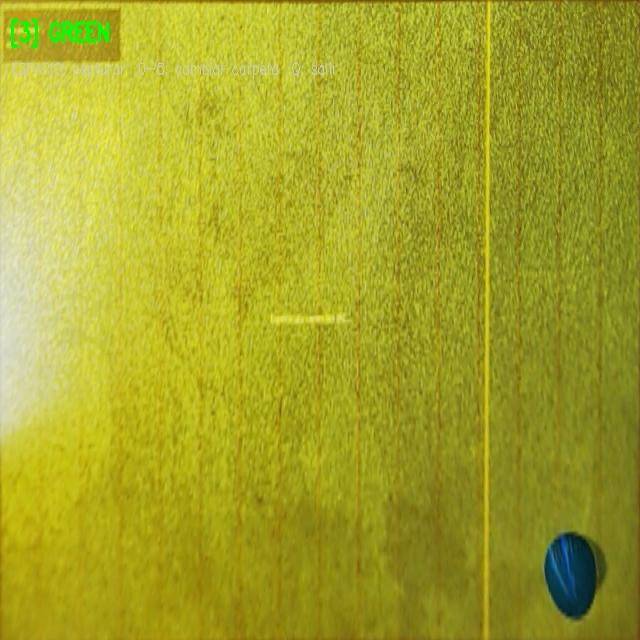green: (546, 531, 596, 622)
